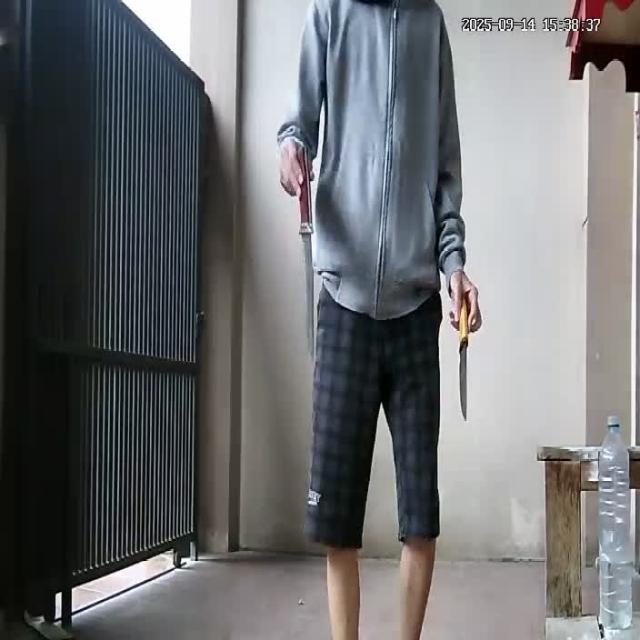senjata_tajam: (297, 198, 319, 363), (456, 319, 468, 426)
